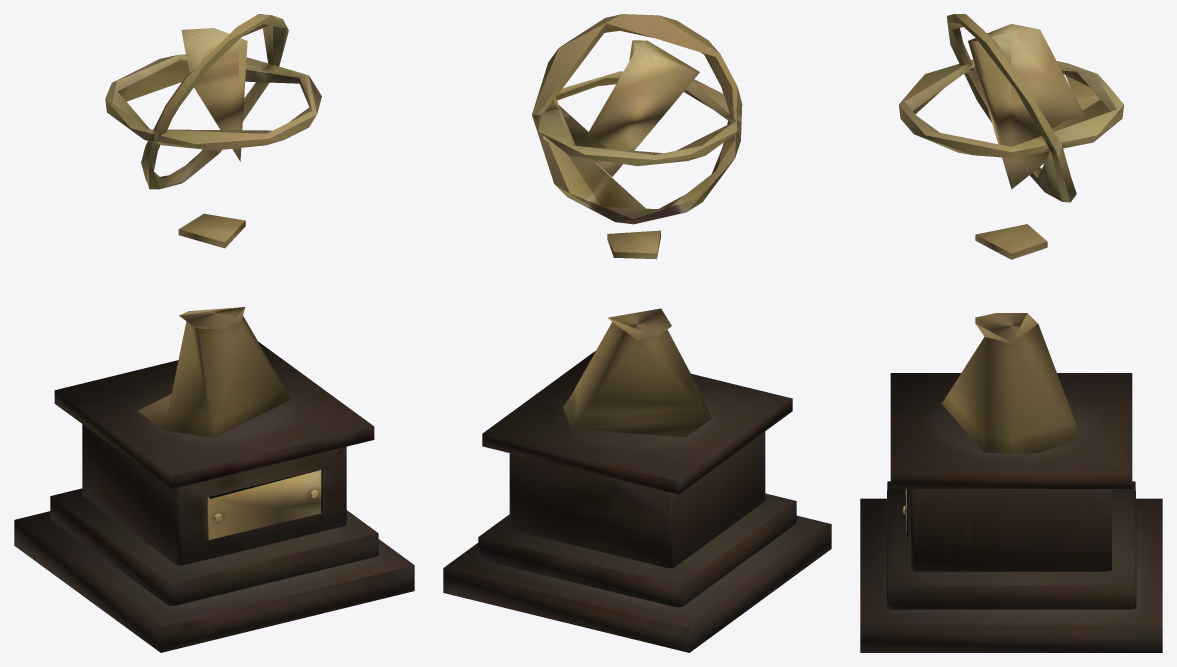
Rendered from trophy-plinth-small.glb.
The picture shows the model from 3 angles, left to right: view 1: azimuth 30°, elevation 25°; view 2: azimuth 150°, elevation 25°; view 3: azimuth 270°, elevation 25°; orthographic projection. The views are drawn at different scales.
Visible parts, largest first — view 1: trophy; view 2: trophy; view 3: trophy.
Boxes of the visible parts, bbox=[...] form: trophy: bbox=[14, 14, 414, 652]; trophy: bbox=[443, 14, 831, 652]; trophy: bbox=[860, 14, 1162, 652].
Size of the model in its own units: 0.0975 by 0.2045 by 0.0975.
1 material, 1 textured.
